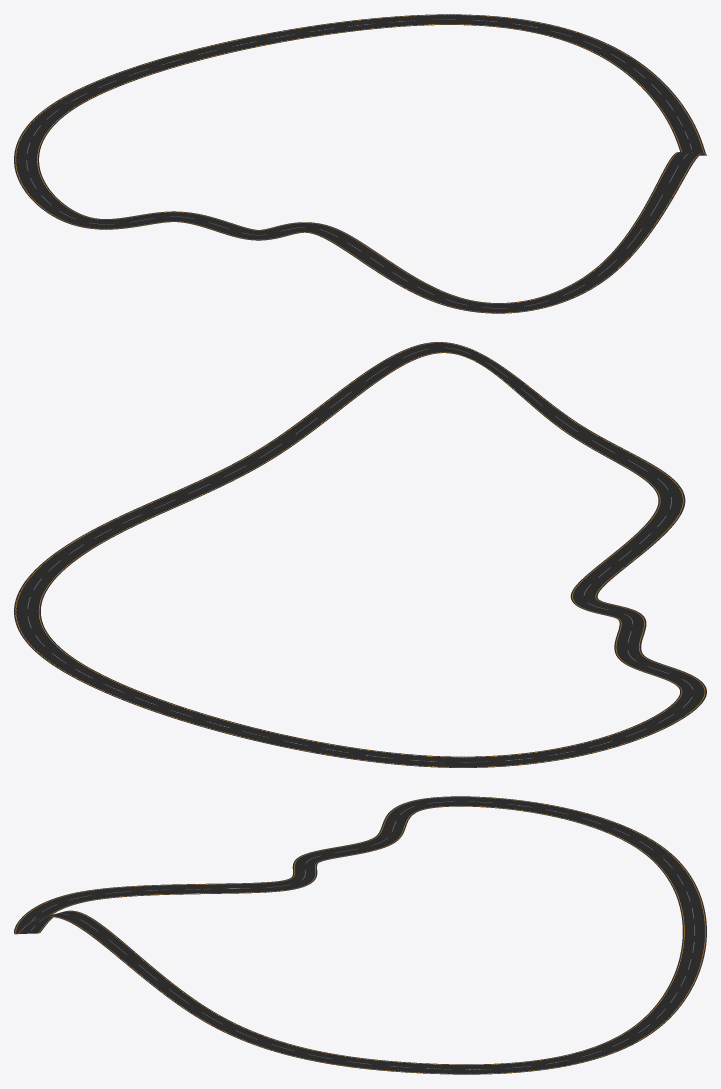
File: pista.obj
The picture shows the model from 3 angles, top to bottom: view 1: azimuth 30°, elevation 25°; view 2: azimuth 150°, elevation 25°; view 3: azimuth 270°, elevation 25°; orthographic projection. The views are drawn at different scales.
Parts seen in each view (by area): view 1: pista; view 2: pista; view 3: pista.
Part boxes in pixels (x1,y1,x2,y2): pista: (14,14,706,313); pista: (14,342,706,767); pista: (14,796,706,1074).
Size of the model in its own units: 1.65 by 0.234 by 1.72.
